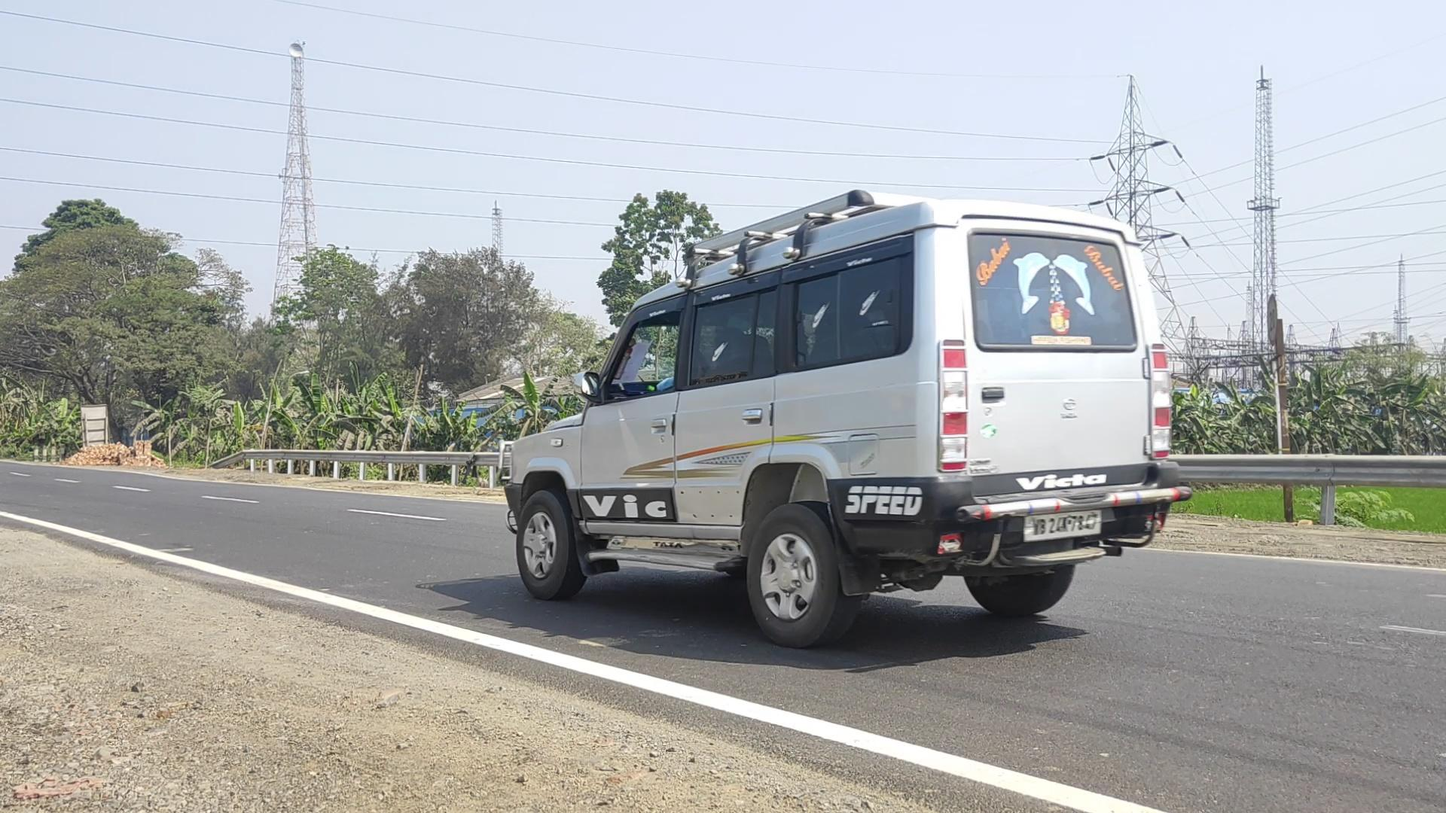car: (493, 190, 1191, 650)
